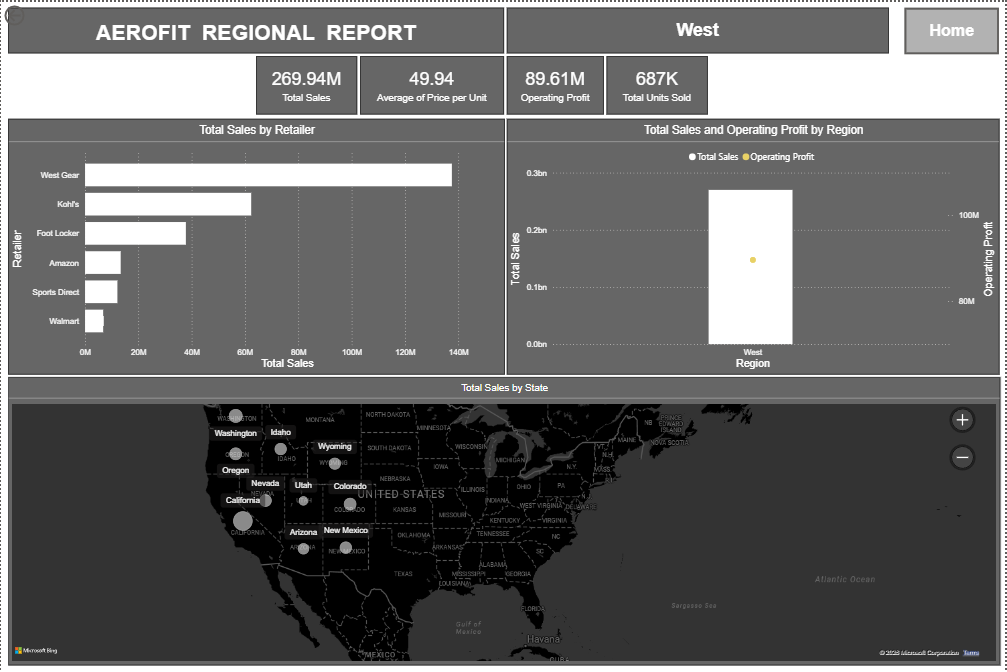

What the dashboard file says about the page in this screenshot:
{"tool":"powerbi","page":{"name":"Regional Page","canvas":[1500,1000],"ordinal":2},"visuals":[{"type":"textbox","box":[10.6,8.5,740.4,68.1],"z":0},{"type":"actionButton","box":[1349.7,8.4,141.3,69.6],"z":1000},{"type":"card","fields":{"Values":["Sum(Adidas_Sales.Total Sales)"]},"box":[380.9,80.9,151.1,87.2],"z":2000},{"type":"card","fields":{"Values":["Sum(Adidas_Sales.Operating Profit)"]},"box":[755.3,80.9,144.7,87.2],"z":3000},{"type":"card","fields":{"Values":["Avg(Adidas_Sales.Price per Unit)"]},"box":[536.2,80.9,214.9,87.2],"z":4000},{"type":"clusteredBarChart","fields":{"Y":["Sum(AeroFit_Sales.Total Sales)"],"Category":["AeroFit_Sales.Retailer"]},"box":[10.2,174,741.5,382],"z":5000},{"type":"lineClusteredColumnComboChart","fields":{"Y":["Sum(Adidas_Sales.Total Sales)"],"Y2":["Sum(Adidas_Sales.Operating Profit)"],"Category":["AeroFit_Sales.Region"]},"box":[755.8,173.6,735.4,382],"z":6000},{"type":"map","fields":{"Category":["Adidas_Sales.State"],"Size":["Sum(Adidas_Sales.Total Sales)"]},"box":[10.2,560,1481.1,431],"z":7000},{"type":"actionButton","box":[0,0,100,40],"z":8000},{"type":"card","fields":{"Values":["Min(AeroFit_Sales.Region)"]},"box":[755.3,8.5,570.2,68.1],"z":9000},{"type":"card","fields":{"Values":["Sum(AeroFit_Sales.Units Sold)"]},"box":[904.3,80.9,151.1,87.2],"z":9001}]}

Visuals, with their boxes in screenshot pixels (x1, y1, x2, y2), scaled from the page's 1500x1000 canvas onto the 1007x672 screenshot:
textbox: 7,6,504,51
actionButton: 906,6,1001,52
card - Sum(Adidas_Sales.Total Sales): 256,54,357,113
card - Sum(Adidas_Sales.Operating Profit): 507,54,604,113
card - Avg(Adidas_Sales.Price per Unit): 360,54,504,113
clusteredBarChart - Sum(AeroFit_Sales.Total Sales) x AeroFit_Sales.Retailer: 7,117,505,374
lineClusteredColumnComboChart - Sum(Adidas_Sales.Total Sales) x Sum(Adidas_Sales.Operating Profit): 507,117,1001,373
map - Adidas_Sales.State x Sum(Adidas_Sales.Total Sales): 7,376,1001,666
actionButton: 0,0,67,27
card - Min(AeroFit_Sales.Region): 507,6,890,51
card - Sum(AeroFit_Sales.Units Sold): 607,54,709,113
